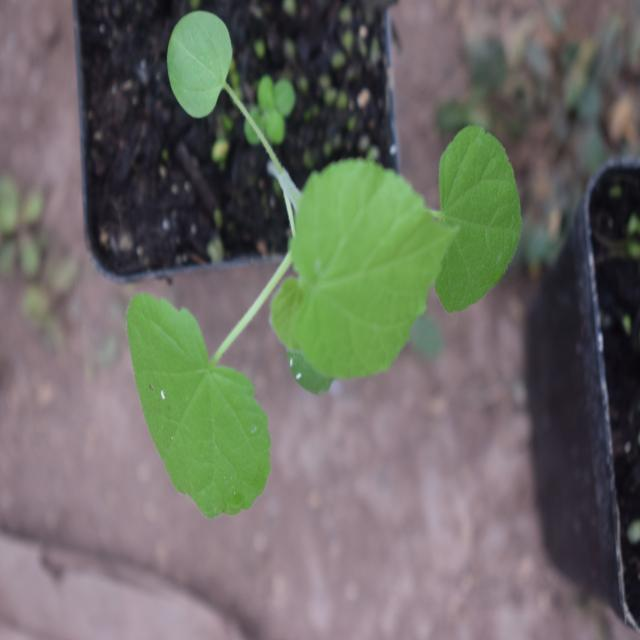abutilon theophrasti: (121, 9, 505, 541)
